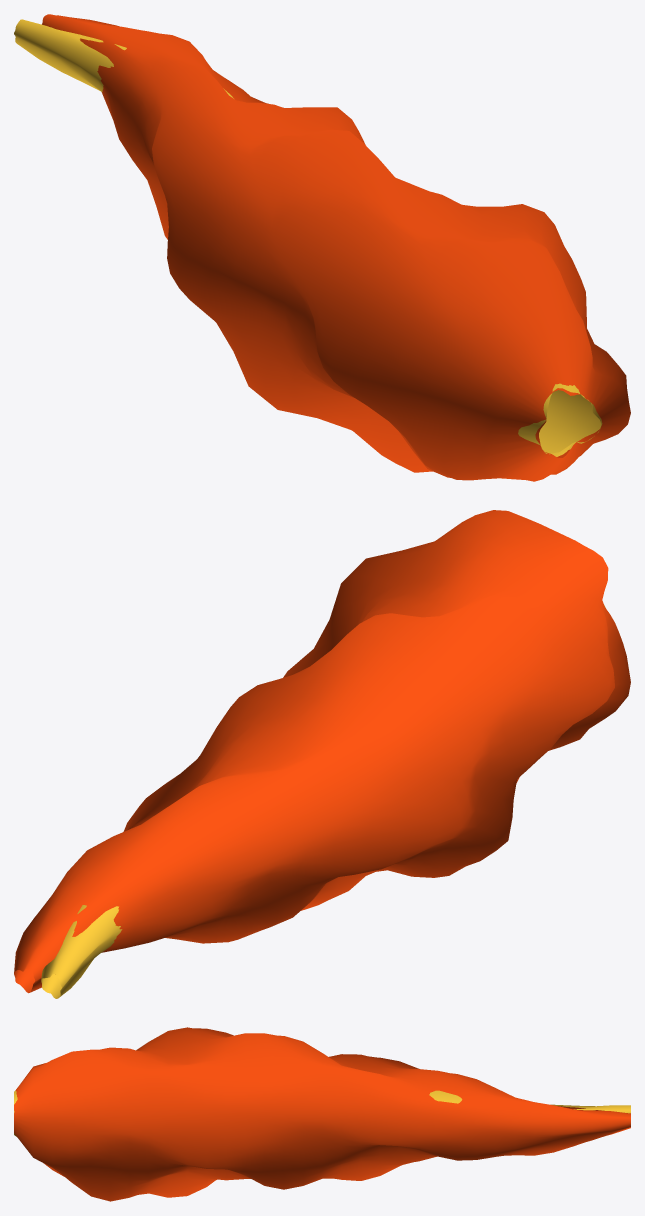
The model's file is flame_volume_v3_1.dae.
The picture shows the model from 3 angles, top to bottom: view 1: azimuth 30°, elevation 25°; view 2: azimuth 150°, elevation 25°; view 3: azimuth 270°, elevation 25°; orthographic projection. The views are drawn at different scales.
Parts seen in each view (by area): view 1: iaf_shell, iaf_core_mesh; view 2: iaf_shell, iaf_core_mesh; view 3: iaf_shell, iaf_core_mesh.
Part boxes in pixels (x1,y1,x2,y2): iaf_shell: [42, 14, 630, 481]; iaf_core_mesh: [14, 19, 602, 456]; iaf_shell: [14, 510, 630, 993]; iaf_core_mesh: [41, 605, 605, 998]; iaf_shell: [14, 1027, 630, 1201]; iaf_core_mesh: [14, 1090, 630, 1136].
Size of the model in its own units: 0.2224 by 0.8 by 0.229.
